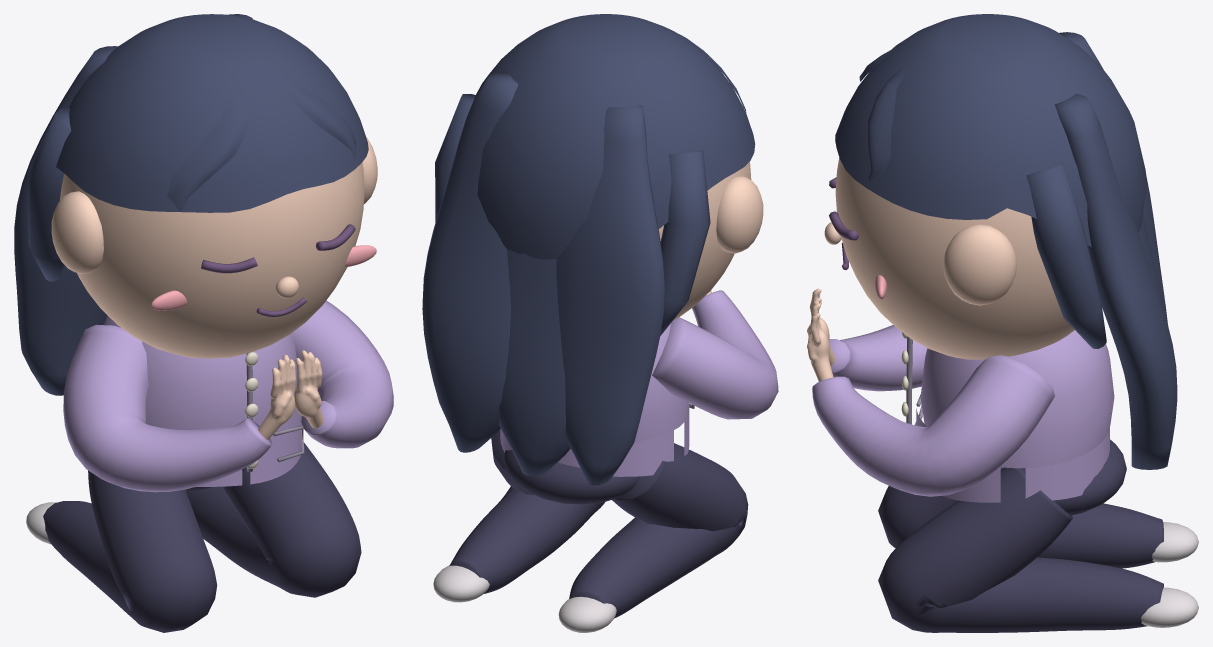
The model's file is meditator_female_kneel_prayer_p05b.glb.
The picture shows the model from 3 angles, left to right: view 1: azimuth 30°, elevation 25°; view 2: azimuth 150°, elevation 25°; view 3: azimuth 270°, elevation 25°; orthographic projection. The views are drawn at different scales.
Parts seen in each view (by area): view 1: hair_blue_black_UpperBodyBreath_object, skin_rose_cream_UpperBodyBreath_object, ao_ba_ba_top_UpperBodyBreath_object, ao_ba_ba_pants_SeatRoot_object, eyes_mauve_UpperBodyBreath_object, skin_blush_UpperBodyBreath_object, sandal_trim_SeatRoot_object, ao_ba_ba_placket_UpperBodyBreath_object; view 2: hair_blue_black_UpperBodyBreath_object, ao_ba_ba_pants_SeatRoot_object, ao_ba_ba_top_UpperBodyBreath_object, skin_rose_cream_UpperBodyBreath_object, sandal_trim_SeatRoot_object; view 3: hair_blue_black_UpperBodyBreath_object, ao_ba_ba_top_UpperBodyBreath_object, ao_ba_ba_pants_SeatRoot_object, skin_rose_cream_UpperBodyBreath_object, sandal_trim_SeatRoot_object, ao_ba_ba_placket_UpperBodyBreath_object, eyes_mauve_UpperBodyBreath_object.
Part boxes in pixels (x1,y1,x2,y2): hair_blue_black_UpperBodyBreath_object: [14, 14, 368, 395]; skin_rose_cream_UpperBodyBreath_object: [51, 137, 377, 439]; ao_ba_ba_top_UpperBodyBreath_object: [63, 300, 393, 492]; ao_ba_ba_pants_SeatRoot_object: [43, 443, 361, 632]; eyes_mauve_UpperBodyBreath_object: [201, 224, 355, 316]; skin_blush_UpperBodyBreath_object: [151, 245, 376, 310]; sandal_trim_SeatRoot_object: [26, 502, 56, 544]; ao_ba_ba_placket_UpperBodyBreath_object: [246, 352, 304, 472]; hair_blue_black_UpperBodyBreath_object: [422, 14, 755, 485]; ao_ba_ba_pants_SeatRoot_object: [449, 430, 748, 618]; ao_ba_ba_top_UpperBodyBreath_object: [500, 290, 778, 476]; skin_rose_cream_UpperBodyBreath_object: [658, 161, 763, 320]; sandal_trim_SeatRoot_object: [433, 565, 616, 632]; hair_blue_black_UpperBodyBreath_object: [835, 14, 1177, 469]; ao_ba_ba_top_UpperBodyBreath_object: [812, 325, 1114, 502]; ao_ba_ba_pants_SeatRoot_object: [878, 439, 1163, 632]; skin_rose_cream_UpperBodyBreath_object: [807, 158, 1074, 381]; sandal_trim_SeatRoot_object: [1141, 522, 1198, 627]; ao_ba_ba_placket_UpperBodyBreath_object: [906, 337, 922, 425]; eyes_mauve_UpperBodyBreath_object: [829, 177, 858, 269].
Size of the model in its own units: 0.672 by 1.15 by 0.7237.
